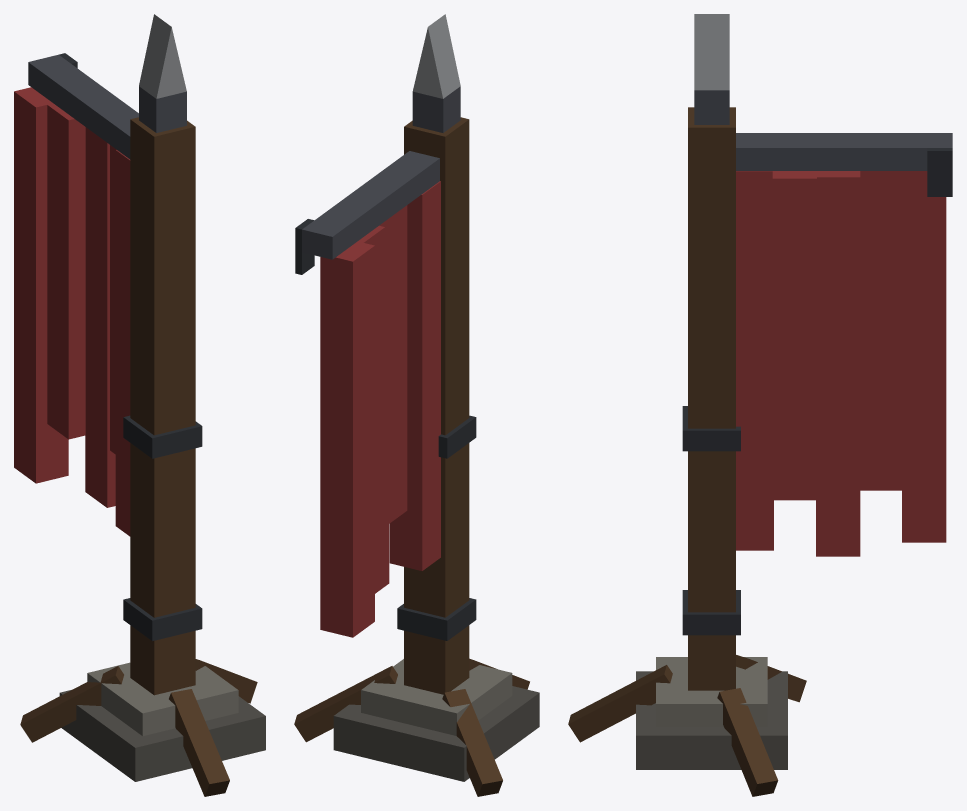
Rendered from banner_pole.glb.
3 views of the same model, side by side, from view 1: azimuth 30°, elevation 25°; view 2: azimuth 150°, elevation 25°; view 3: azimuth 270°, elevation 25° (orthographic).
Parts seen in each view (by area): view 1: banner_cloth, timber, stone_dark, iron, stone, iron_dark, steel; view 2: banner_cloth, timber, stone_dark, iron, stone, iron_dark, steel; view 3: banner_cloth, timber, iron, stone_dark, stone, iron_dark, steel.
Boxes of the visible parts, bbox=[...] form: banner_cloth: bbox=[14, 87, 130, 536]; timber: bbox=[20, 117, 257, 796]; stone_dark: bbox=[59, 690, 265, 781]; iron: bbox=[28, 54, 186, 159]; stone: bbox=[87, 662, 238, 736]; iron_dark: bbox=[59, 53, 202, 640]; steel: bbox=[139, 14, 186, 98]; banner_cloth: bbox=[320, 181, 440, 637]; timber: bbox=[294, 117, 529, 796]; stone_dark: bbox=[333, 686, 539, 781]; iron: bbox=[302, 86, 460, 259]; stone: bbox=[361, 659, 512, 735]; iron_dark: bbox=[295, 219, 476, 640]; steel: bbox=[412, 14, 460, 98]; banner_cloth: bbox=[736, 171, 946, 556]; timber: bbox=[568, 107, 806, 796]; iron: bbox=[694, 90, 952, 170]; stone_dark: bbox=[636, 671, 787, 769]; stone: bbox=[656, 657, 767, 726]; iron_dark: bbox=[682, 148, 952, 635]; steel: bbox=[694, 14, 729, 90].
Size of the model in its own units: 20.37 by 63.53 by 30.34.
